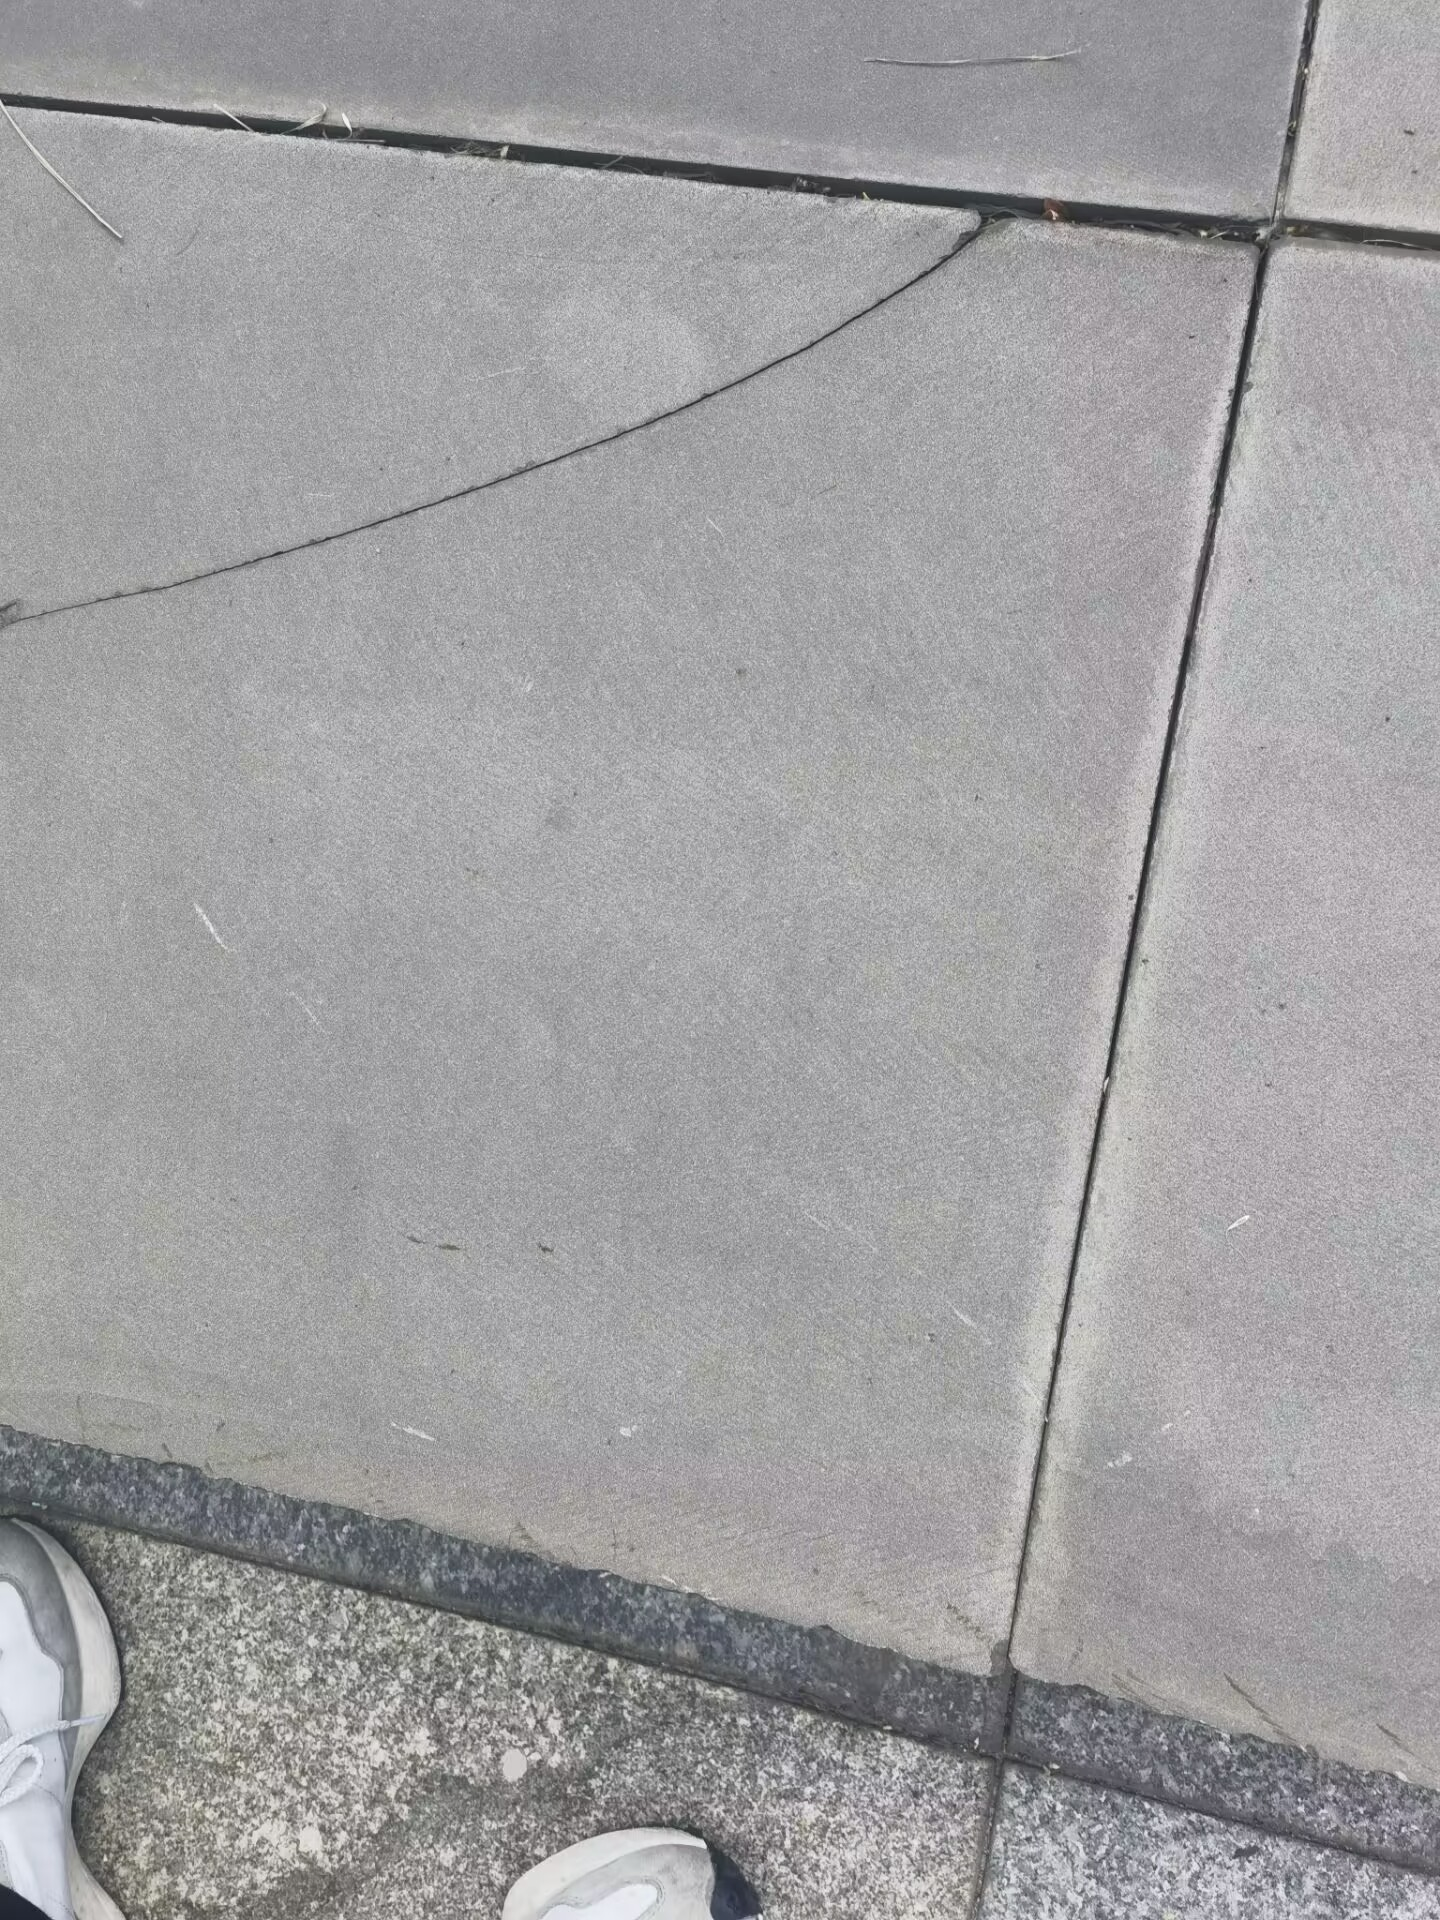TILE: (3, 198, 1023, 632)
